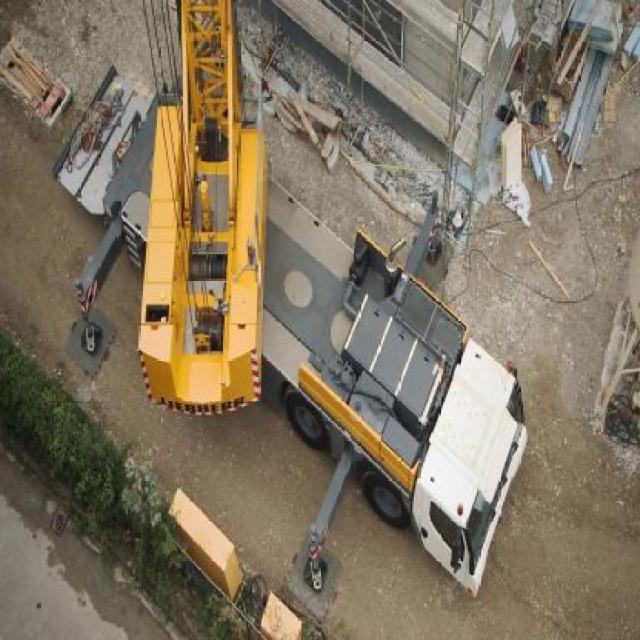Mobile Crane: (78, 2, 532, 581)
